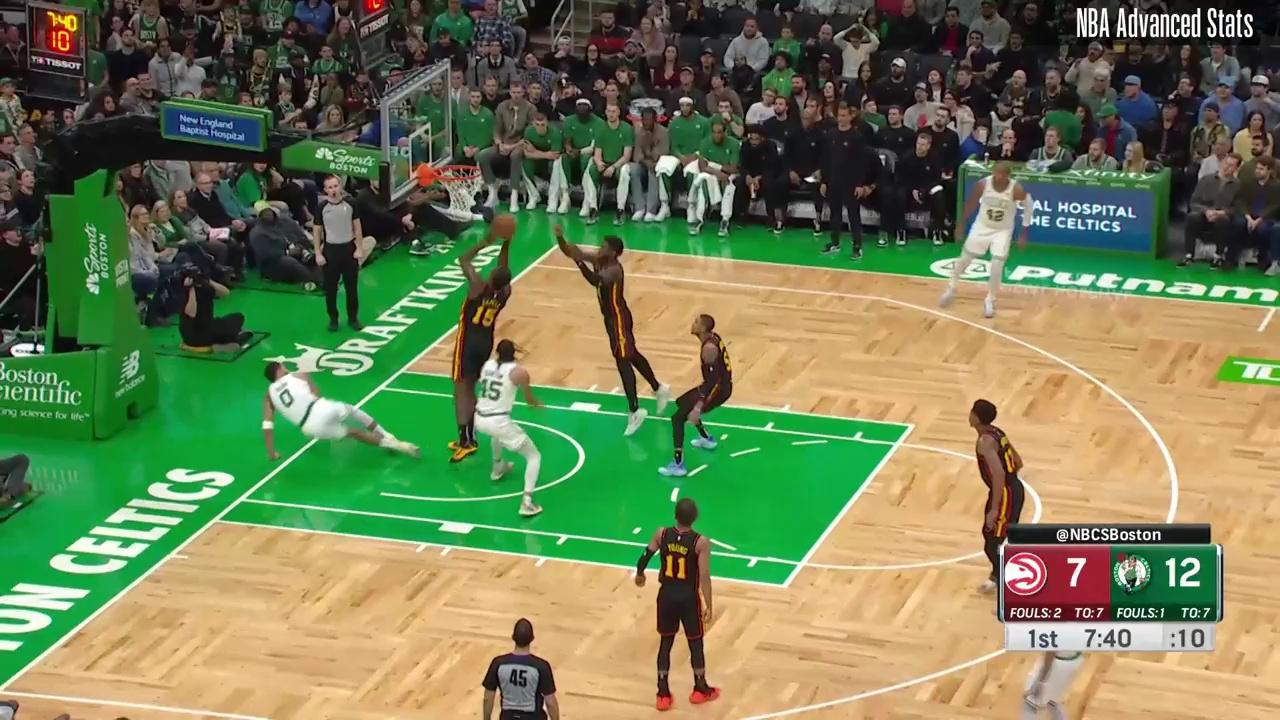3_dx: (530, 260, 540, 268)
3_sx: (0, 683, 7, 698)
free_adx: (905, 418, 918, 431)
free_asx: (778, 579, 791, 592)
free_bdx: (398, 366, 407, 375)
free_bsx: (211, 515, 220, 525)
mid_dx: (1254, 326, 1264, 336)
referee: (482, 618, 558, 720), (315, 177, 364, 332)
team: (261, 360, 421, 461), (940, 160, 1033, 318), (474, 337, 544, 517), (1018, 599, 1085, 719)
team1: (554, 220, 671, 438), (635, 497, 721, 710), (450, 227, 511, 462), (656, 313, 733, 477), (969, 399, 1026, 593)
timer: (1081, 625, 1135, 648)
